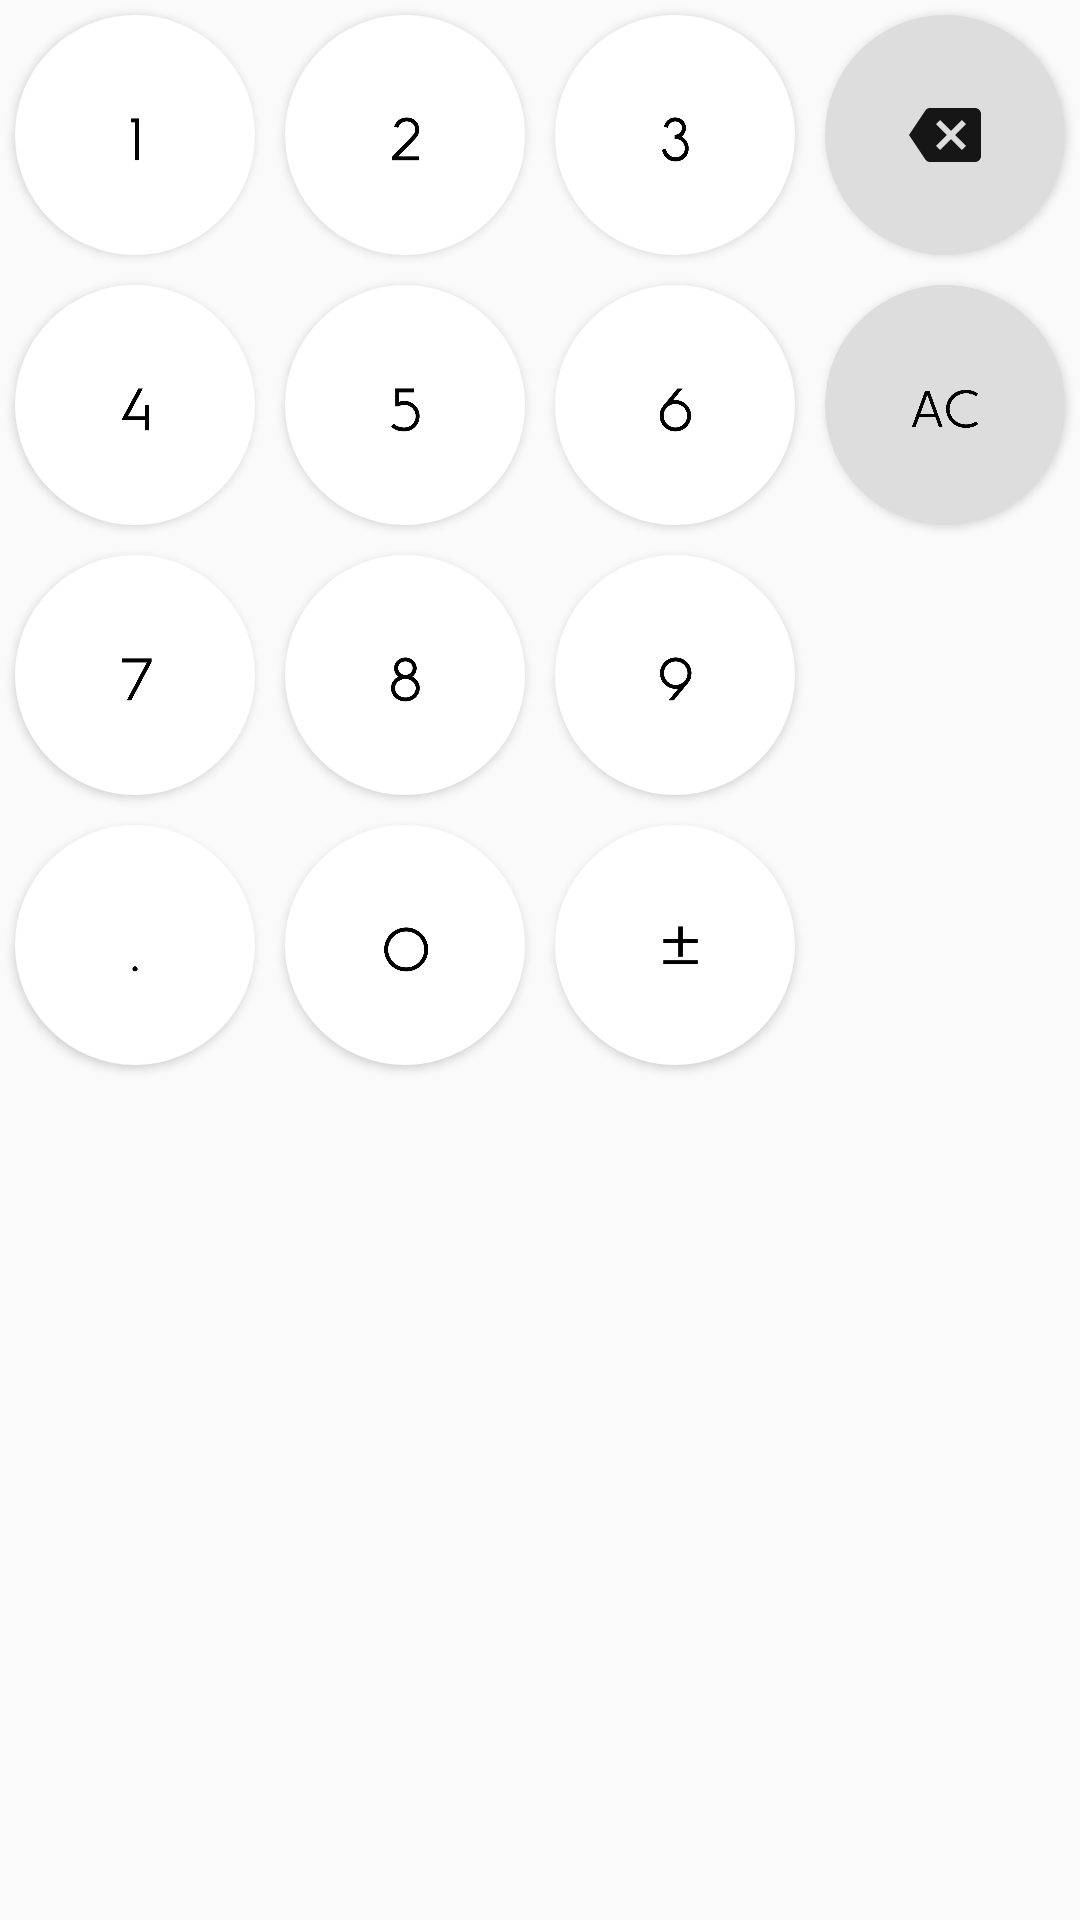

Locate icon controls on the screen. Image size 1080px x 1920px, boxes as (x1, y1, x2, y2).
backspace: (825, 15, 1065, 255)
